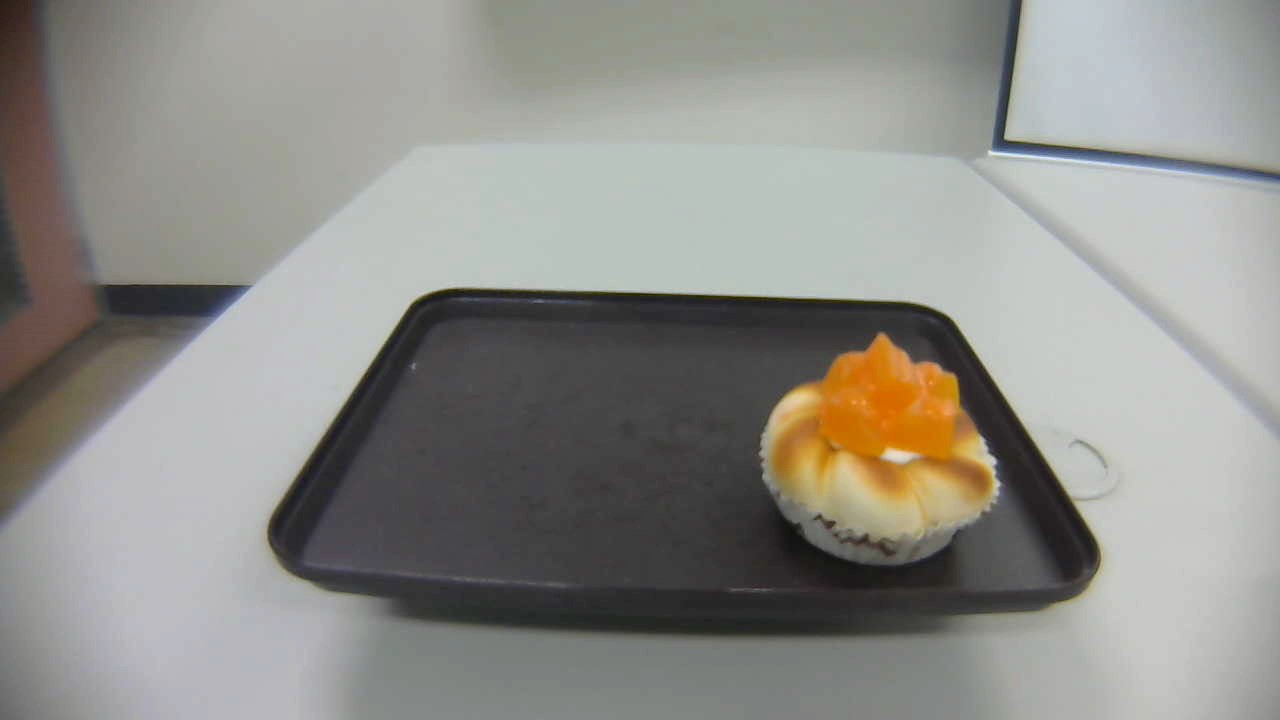mango tart: (758, 331, 1005, 567)
